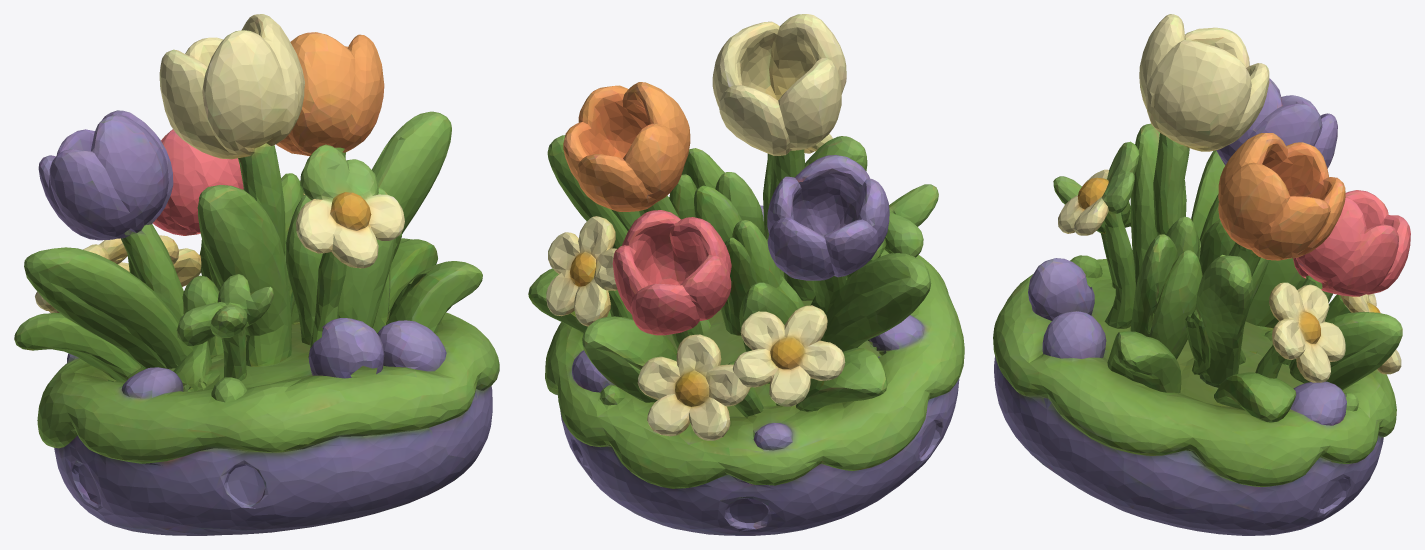
File: item_flowerpatch.glb
The picture shows the model from 3 angles, left to right: view 1: azimuth 30°, elevation 25°; view 2: azimuth 150°, elevation 25°; view 3: azimuth 270°, elevation 25°; orthographic projection. The views are drawn at different scales.
Visible parts, largest first — view 1: geometry_0; view 2: geometry_0; view 3: geometry_0.
Part boxes in pixels (<box>): geometry_0: <box>14,14,499,535</box>; geometry_0: <box>528,14,964,535</box>; geometry_0: <box>993,14,1410,535</box>.
Size of the model in its own units: 0.7811 by 0.9056 by 0.7455.
1 material, 1 textured.
